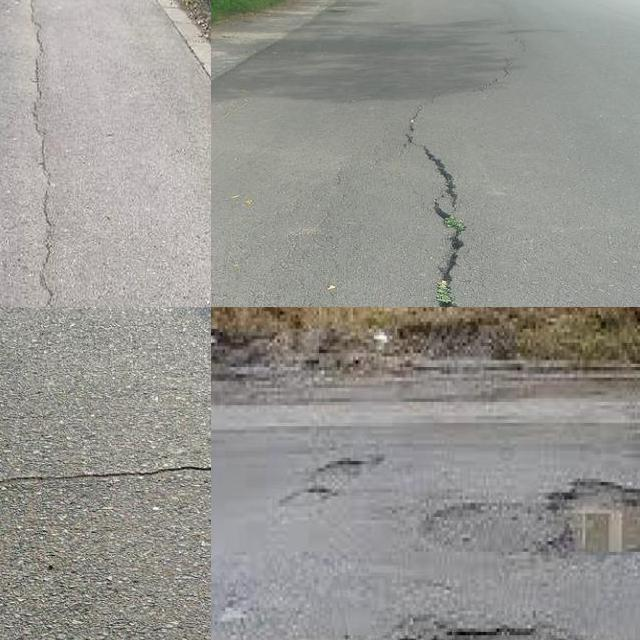Lubang: (548, 488, 640, 560)
Melintang: (0, 448, 211, 511)
Memanjang: (15, 0, 68, 307), (407, 110, 470, 307)
